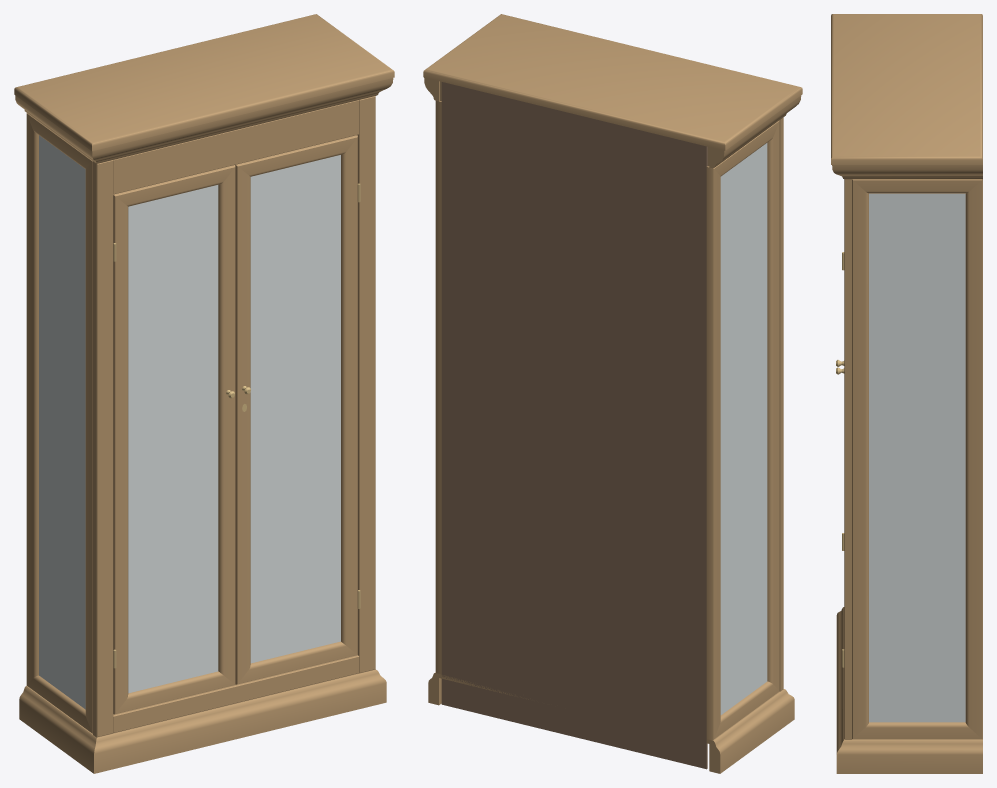
File: Kit_DisplayCabinet.fbx
3 views of the same model, side by side, from view 1: azimuth 30°, elevation 25°; view 2: azimuth 150°, elevation 25°; view 3: azimuth 270°, elevation 25° (orthographic). The views are drawn at different scales.
Visible parts, largest first — view 1: Kit_DisplayCabinet_LOD0; view 2: Kit_DisplayCabinet_LOD0; view 3: Kit_DisplayCabinet_LOD0.
Boxes of the visible parts, x1=… form: Kit_DisplayCabinet_LOD0: x1=14, y1=14, x2=394, y2=773; Kit_DisplayCabinet_LOD0: x1=423, y1=14, x2=802, y2=773; Kit_DisplayCabinet_LOD0: x1=831, y1=14, x2=982, y2=773.
Size of what is drawn, in the model's own units: 0.9 by 1.8 by 0.4.
